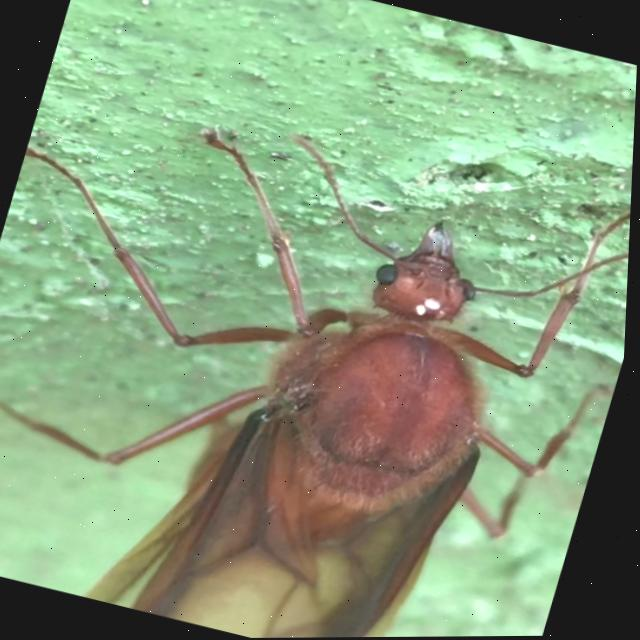Alive-Male-Alate: (0, 51, 638, 640)
